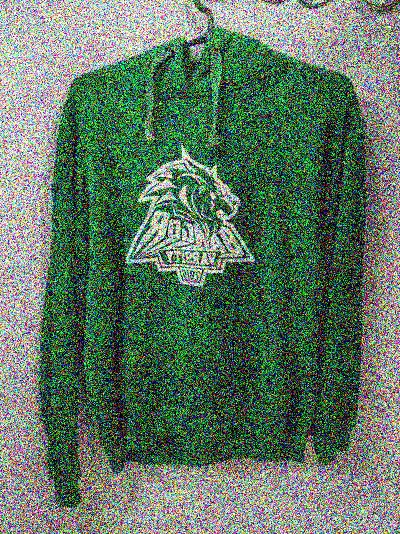Hoodie: (16, 21, 389, 515)
